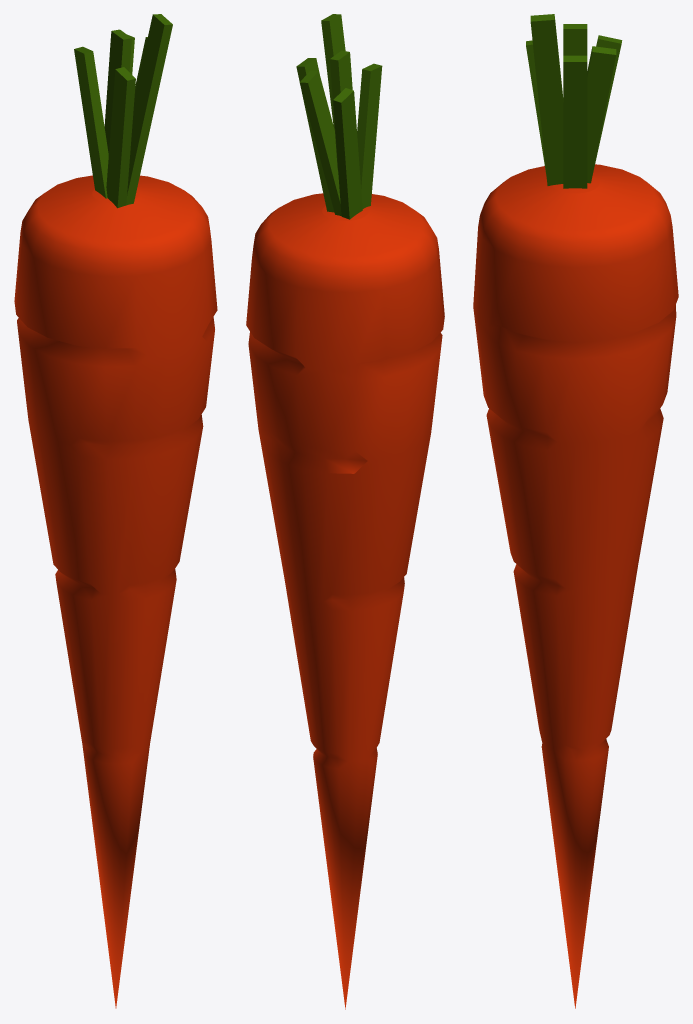
File: Fruit_Carrot.fbx
The picture shows the model from 3 angles, left to right: view 1: azimuth 30°, elevation 25°; view 2: azimuth 150°, elevation 25°; view 3: azimuth 270°, elevation 25°; orthographic projection. The views are drawn at different scales.
Parts seen in each view (by area): view 1: pasted__pCube7; view 2: pasted__pCube7; view 3: pasted__pCube7.
Boxes of the visible parts, bbox=[...] form: pasted__pCube7: bbox=[14, 14, 217, 1008]; pasted__pCube7: bbox=[246, 14, 444, 1009]; pasted__pCube7: bbox=[473, 14, 678, 1008].
Bounding box in the file's own units: 0.1673 × 0.9009 × 0.1663.
